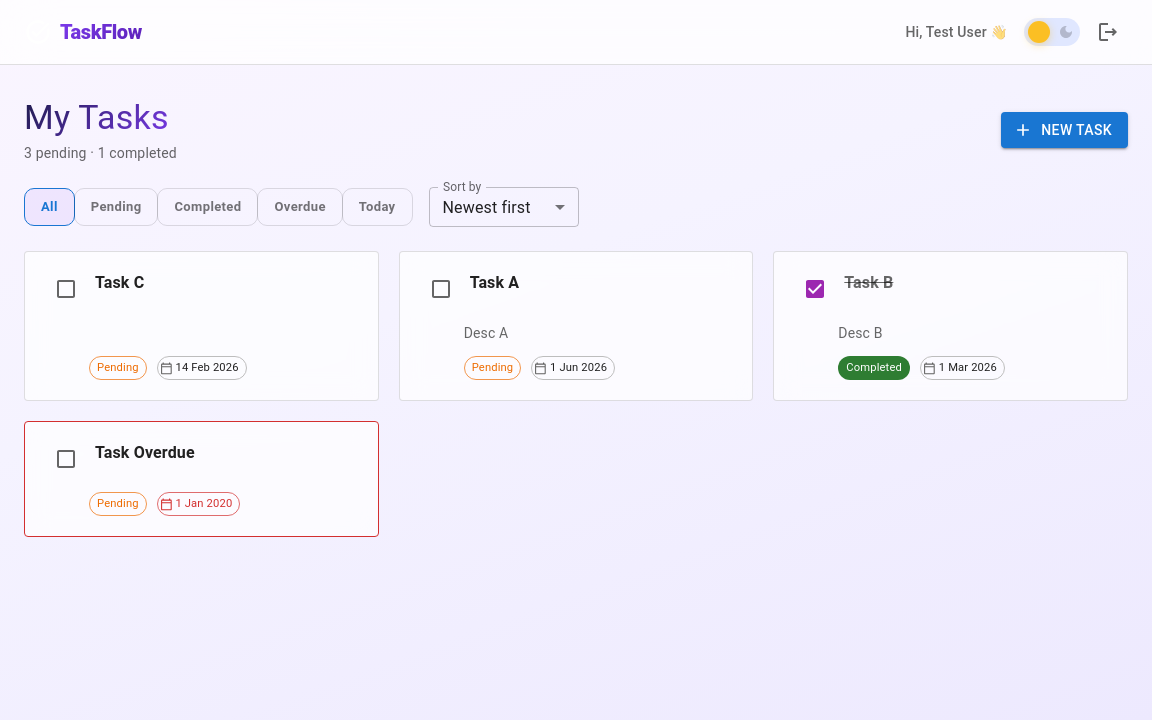
Test: DashboardPage › filters to show only overdue tasks
Click the button "Overdue": (300, 207) [258,188,343,226]
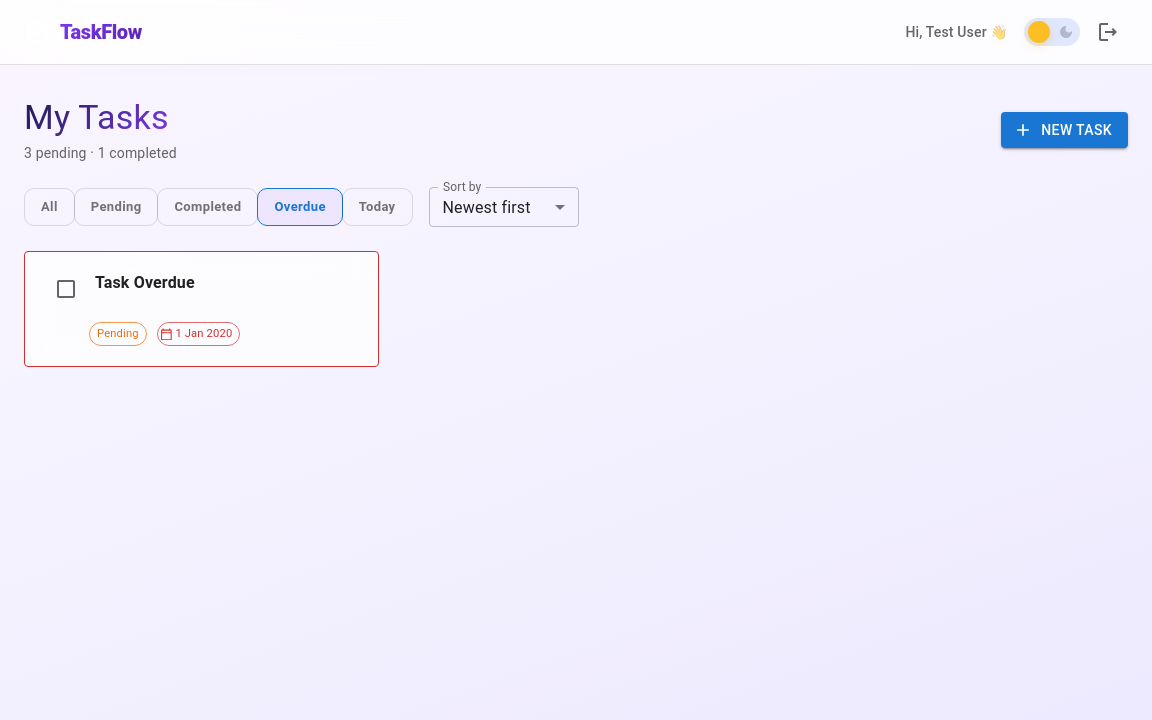
Expected: the text "Task Overdue" is shown, [95,273,195,292]
Result: the text "Task C" is gone
